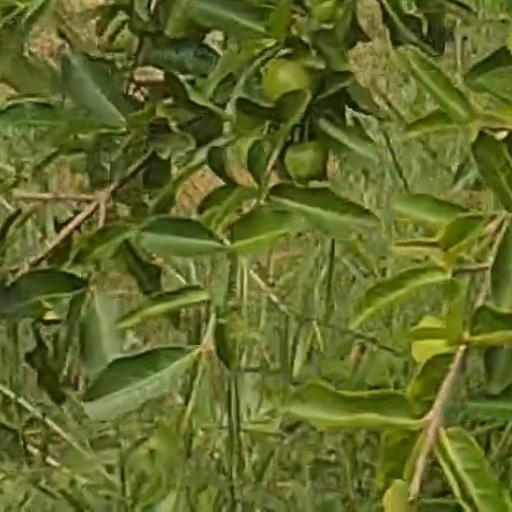acerola_verde: (263, 55, 323, 94), (285, 142, 331, 181)
